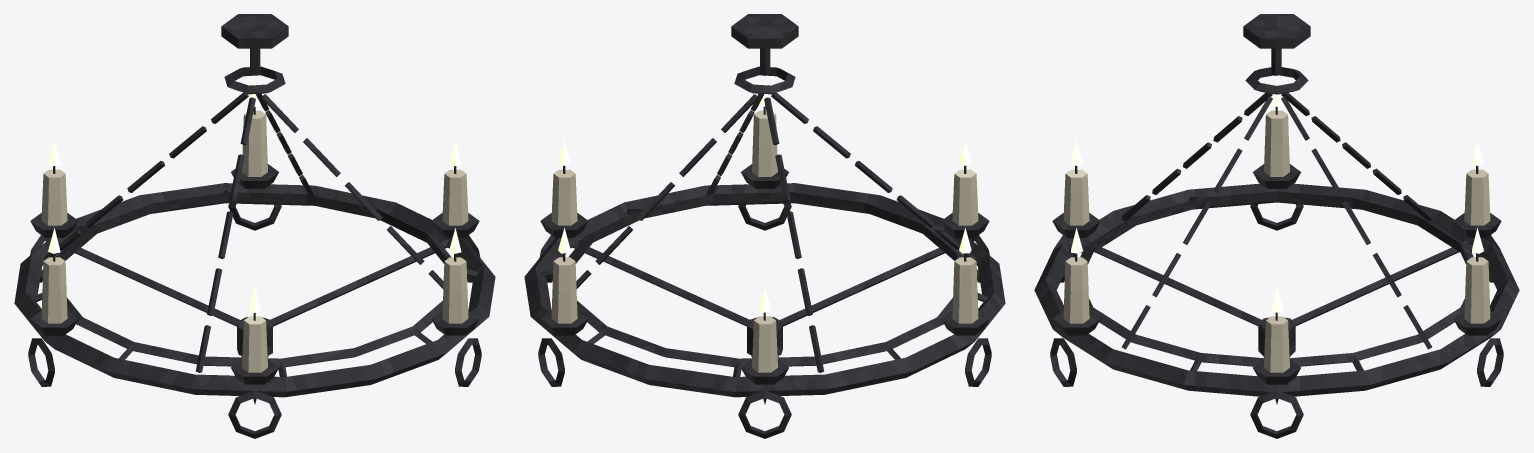
The model's file is castle_chandelier.glb.
3 renders of one model, left to right at view 1: azimuth 30°, elevation 25°; view 2: azimuth 150°, elevation 25°; view 3: azimuth 270°, elevation 25°, orthographic.
Visible parts, largest first — view 1: body, lamp_on; view 2: body, lamp_on; view 3: body, lamp_on.
Part boxes in pixels (x1=…): body: x1=14, y1=14, x2=495, y2=438; lamp_on: x1=48, y1=81, x2=461, y2=312; body: x1=524, y1=14, x2=1005, y2=438; lamp_on: x1=558, y1=81, x2=971, y2=312; body: x1=1034, y1=14, x2=1519, y2=438; lamp_on: x1=1071, y1=81, x2=1483, y2=312.
Bounding box in the file's own units: 1.35 × 1.12 × 1.3.
5 materials, 3 textured.
